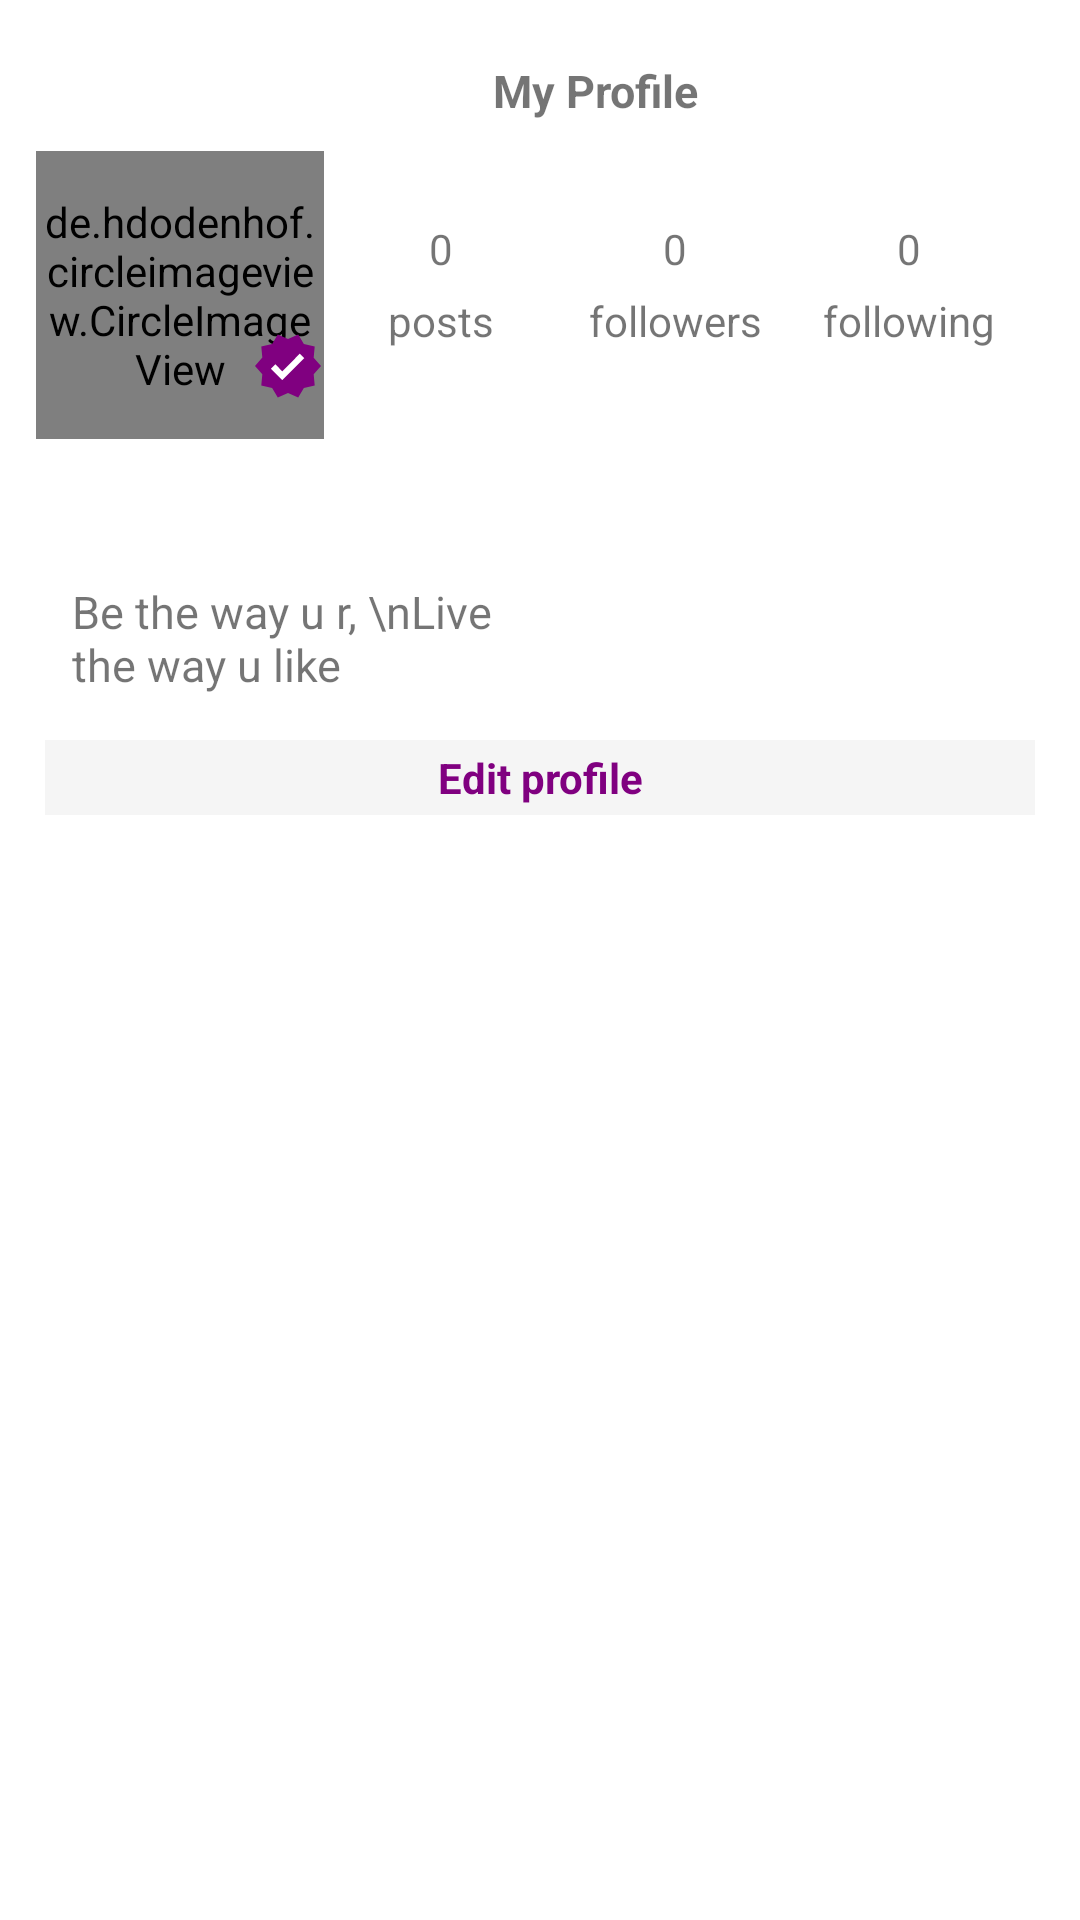

Locate icon controls on the screen. Image size 1080×1920, boxes as bbox=(x1, y1, x2, y2).
verified: bbox=(252, 330, 321, 398)
